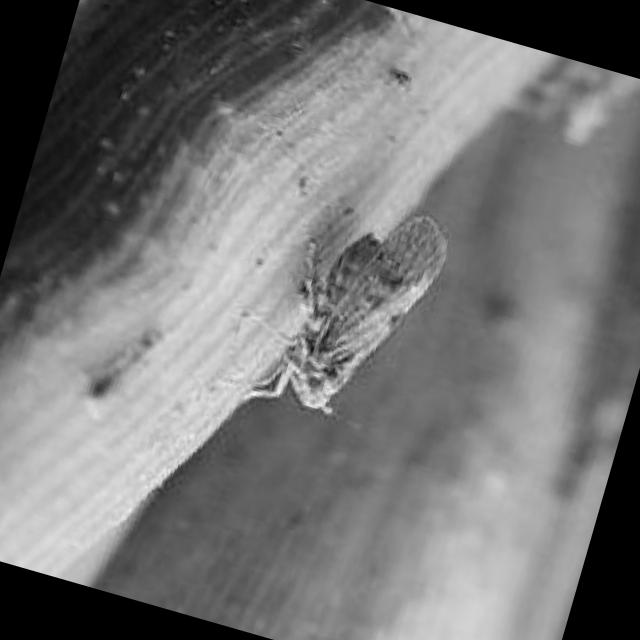brown-planthopper: (260, 184, 460, 438)
